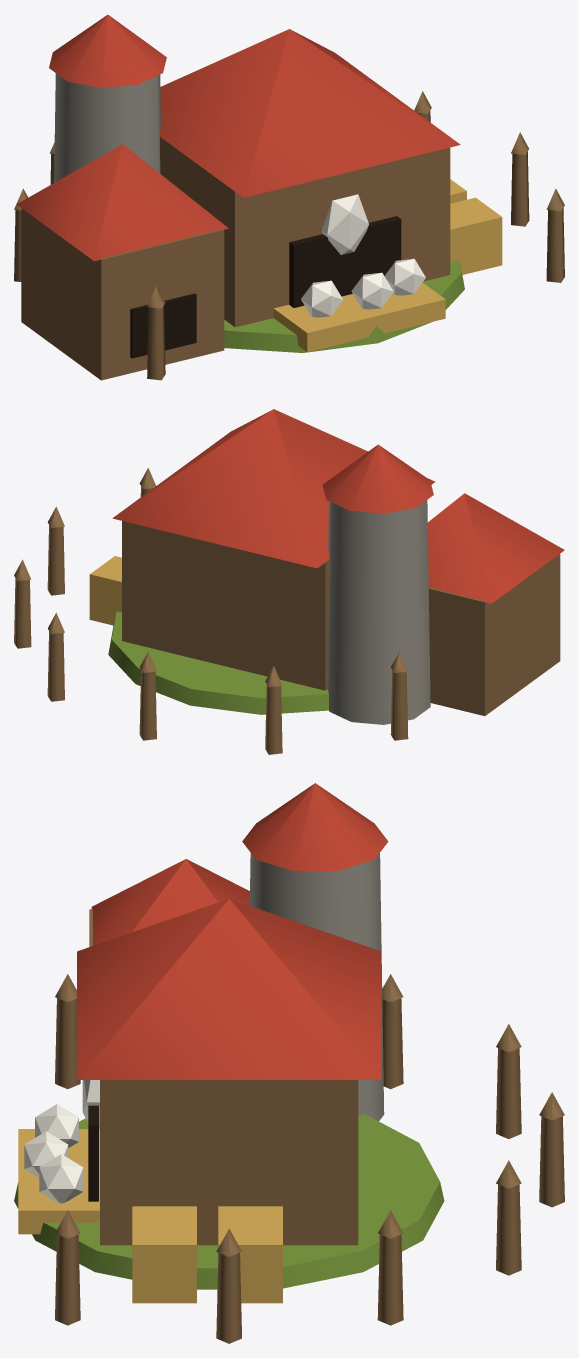
The model's file is level4.glb.
3 views of the same model, one above another, from view 1: azimuth 30°, elevation 25°; view 2: azimuth 150°, elevation 25°; view 3: azimuth 270°, elevation 25° (orthographic). The views are drawn at different scales.
Bounding box in the file's own units: 3.2 × 1.71 × 2.56.
